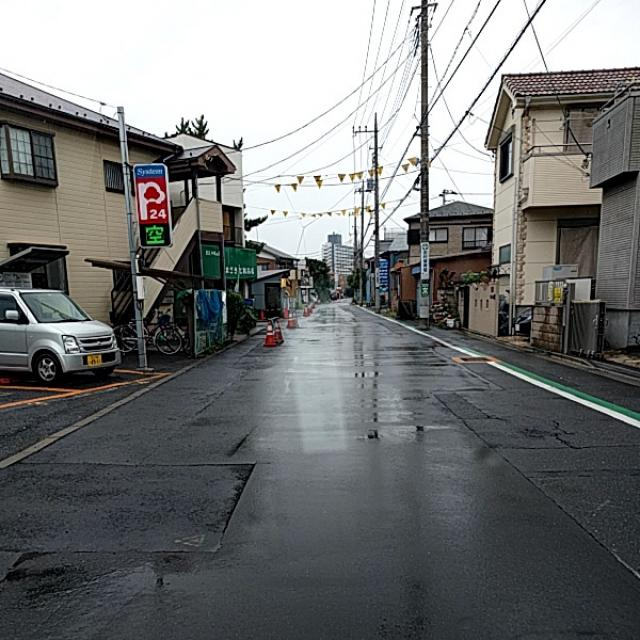pothole: (202, 455, 248, 544)
